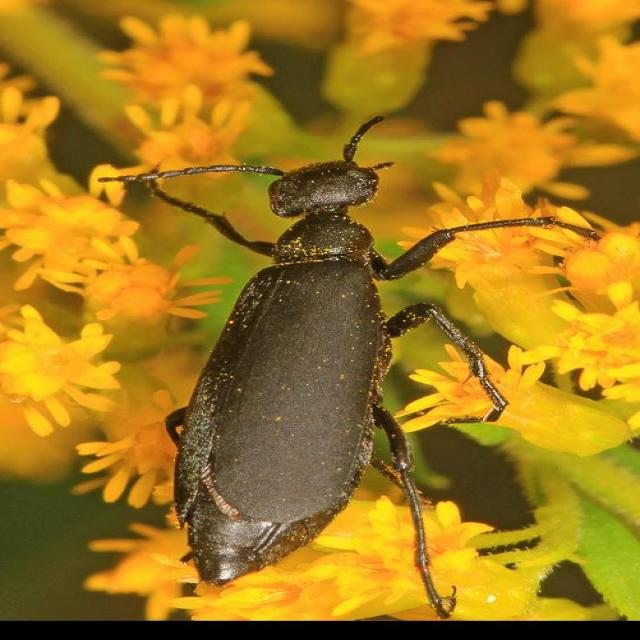BlisterBeetle-Adult-: (87, 106, 570, 596)
